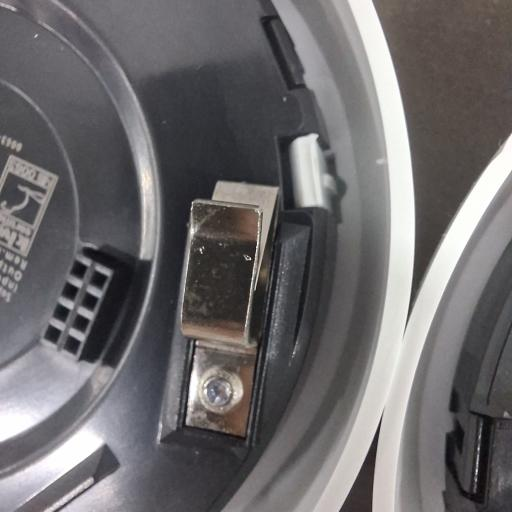yayli: (174, 179, 284, 439)
